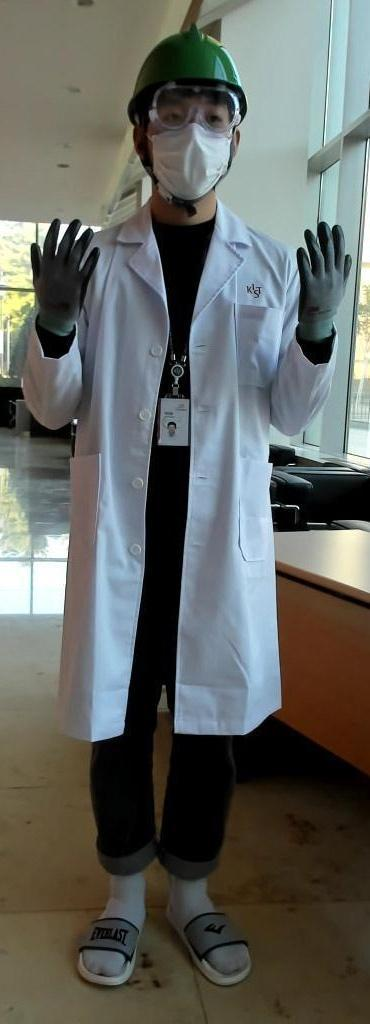lab_coat: (102, 230, 279, 731)
